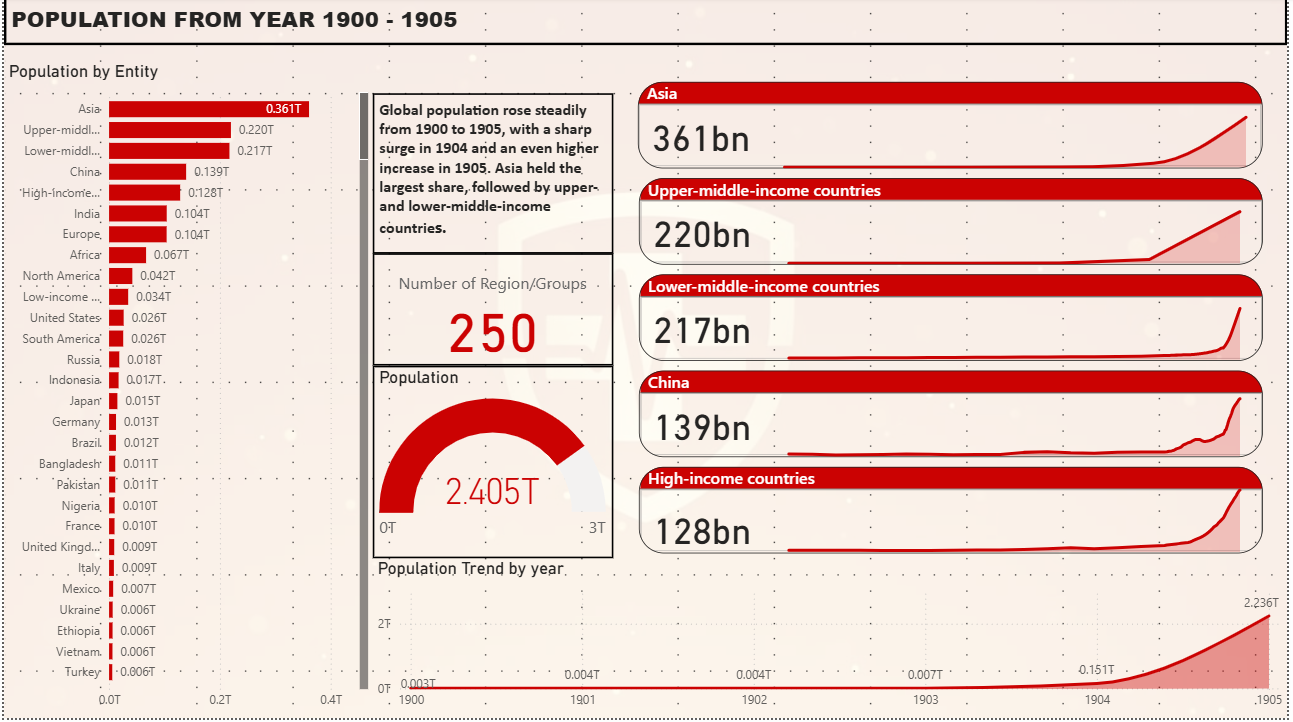

What the dashboard file says about the page in this screenshot:
{"tool":"powerbi","page":{"name":"Population","canvas":[1280,720],"ordinal":2},"visuals":[{"type":"clusteredBarChart","title":"Population by Entity","fields":{"Category":["5  World Population.Entity"],"Y":["Sum(5  World Population.Population (historical estimates))"]},"box":[0,64,368,656],"z":0},{"type":"cardVisual","fields":{"Rows":["5  World Population.Entity"],"Data":["Sum(5  World Population.Population (historical estimates))"]},"box":[592,80,688,96],"z":0,"group":"g2"},{"type":"cardVisual","fields":{"Rows":["5  World Population.Entity"],"Data":["Sum(5  World Population.Population (historical estimates))"]},"box":[608,176,672,96],"z":1000,"group":"g2"},{"type":"areaChart","title":"Population Trend by year","fields":{"Category":["5  World Population.Year.Variation.Date Hierarchy.Year","5  World Population.Year.Variation.Date Hierarchy.Quarter","5  World Population.Year.Variation.Date Hierarchy.Month","5  World Population.Year.Variation.Date Hierarchy.Day"],"Y":["Sum(5  World Population.Population (historical estimates))"]},"box":[368,560,912,160],"z":1000},{"type":"textbox","box":[0,0,1280,48],"z":2000},{"type":"cardVisual","fields":{"Rows":["5  World Population.Entity"],"Data":["Sum(5  World Population.Population (historical estimates))"]},"box":[608,272,672,96],"z":2000,"group":"g2"},{"type":"gauge","title":"Population ","fields":{"Y":["Sum(5  World Population.Population (historical estimates))"]},"box":[368,368,240,192],"z":2000,"group":"g1"},{"type":"group","id":"g1","title":"Group 1","box":[368,96,240,464],"z":3000},{"type":"cardVisual","fields":{"Rows":["5  World Population.Entity"],"Data":["Sum(5  World Population.Population (historical estimates))"]},"box":[608,368,672,96],"z":3000,"group":"g2"},{"type":"cardVisual","fields":{"Rows":["5  World Population.Entity"],"Data":["Sum(5  World Population.Population (historical estimates))"]},"box":[608,464,672,96],"z":4000,"group":"g2"},{"type":"stackedAreaChart","fields":{"Category":["5  World Population.Year.Variation.Date Hierarchy.Year","5  World Population.Year.Variation.Date Hierarchy.Quarter","5  World Population.Year.Variation.Date Hierarchy.Month","5  World Population.Year.Variation.Date Hierarchy.Day"],"Series":["5  World Population.Entity"],"Y":["Sum(5  World Population.Population (historical estimates))"]},"box":[736,96,544,80],"z":5000,"group":"g2"},{"type":"stackedAreaChart","fields":{"Category":["5  World Population.Year.Variation.Date Hierarchy.Year","5  World Population.Year.Variation.Date Hierarchy.Quarter","5  World Population.Year.Variation.Date Hierarchy.Month","5  World Population.Year.Variation.Date Hierarchy.Day"],"Y":["Sum(5  World Population.Population (historical estimates))"],"Series":["5  World Population.Entity"]},"box":[768,176,480,96],"z":6000,"group":"g2"},{"type":"cardVisual","fields":{"Data":["Count(5  World Population.Entity)"]},"box":[368,256,240,112],"z":7000,"group":"g1"},{"type":"stackedAreaChart","fields":{"Category":["5  World Population.Year.Variation.Date Hierarchy.Year","5  World Population.Year.Variation.Date Hierarchy.Quarter","5  World Population.Year.Variation.Date Hierarchy.Month","5  World Population.Year.Variation.Date Hierarchy.Day"],"Series":["5  World Population.Entity"],"Y":["Sum(5  World Population.Population (historical estimates))"]},"box":[768,288,480,80],"z":7000,"group":"g2"},{"type":"stackedAreaChart","fields":{"Y":["Sum(5  World Population.Population (historical estimates))"],"Series":["5  World Population.Entity"],"Category":["5  World Population.Year.Variation.Date Hierarchy.Year","5  World Population.Year.Variation.Date Hierarchy.Quarter","5  World Population.Year.Variation.Date Hierarchy.Month","5  World Population.Year.Variation.Date Hierarchy.Day"]},"box":[768,384,480,80],"z":8000,"group":"g2"},{"type":"areaChart","fields":{"Category":["5  World Population.Year.Variation.Date Hierarchy.Year","5  World Population.Year.Variation.Date Hierarchy.Quarter","5  World Population.Year.Variation.Date Hierarchy.Month","5  World Population.Year.Variation.Date Hierarchy.Day"],"Y":["Sum(5  World Population.Population (historical estimates))"],"Series":["5  World Population.Entity"]},"box":[768,464,480,96],"z":9000,"group":"g2"},{"type":"group","id":"g2","title":"Group 2","box":[592,80,688,480],"z":9001},{"type":"textbox","box":[368,96,240,160],"z":12003,"group":"g1"}]}

Visuals, with their boxes in screenshot pixels (x1, y1, x2, y2), scaled from the page's 1280x720 canvas onto the 1293x722 screenshot:
"Population by Entity" clusteredBarChart: x1=0, y1=64, x2=372, y2=721
cardVisual - 5  World Population.Entity x Sum(5  World Population.Population (historical estimates)): x1=598, y1=80, x2=1292, y2=176
cardVisual - 5  World Population.Entity x Sum(5  World Population.Population (historical estimates)): x1=614, y1=176, x2=1292, y2=273
"Population Trend by year" areaChart: x1=372, y1=562, x2=1292, y2=721
textbox: x1=0, y1=0, x2=1292, y2=48
cardVisual - 5  World Population.Entity x Sum(5  World Population.Population (historical estimates)): x1=614, y1=273, x2=1292, y2=369
"Population " gauge: x1=372, y1=369, x2=614, y2=562
"Group 1" group: x1=372, y1=96, x2=614, y2=562
cardVisual - 5  World Population.Entity x Sum(5  World Population.Population (historical estimates)): x1=614, y1=369, x2=1292, y2=465
cardVisual - 5  World Population.Entity x Sum(5  World Population.Population (historical estimates)): x1=614, y1=465, x2=1292, y2=562
stackedAreaChart - 5  World Population.Year.Variation.Date Hierarchy.Year x 5  World Population.Year.Variation.Date Hierarchy.Quarter: x1=743, y1=96, x2=1292, y2=176
stackedAreaChart - 5  World Population.Year.Variation.Date Hierarchy.Year x 5  World Population.Year.Variation.Date Hierarchy.Quarter: x1=776, y1=176, x2=1261, y2=273
cardVisual - Count(5  World Population.Entity): x1=372, y1=257, x2=614, y2=369
stackedAreaChart - 5  World Population.Year.Variation.Date Hierarchy.Year x 5  World Population.Year.Variation.Date Hierarchy.Quarter: x1=776, y1=289, x2=1261, y2=369
stackedAreaChart - Sum(5  World Population.Population (historical estimates)) x 5  World Population.Entity: x1=776, y1=385, x2=1261, y2=465
areaChart - 5  World Population.Year.Variation.Date Hierarchy.Year x 5  World Population.Year.Variation.Date Hierarchy.Quarter: x1=776, y1=465, x2=1261, y2=562
"Group 2" group: x1=598, y1=80, x2=1292, y2=562
textbox: x1=372, y1=96, x2=614, y2=257
